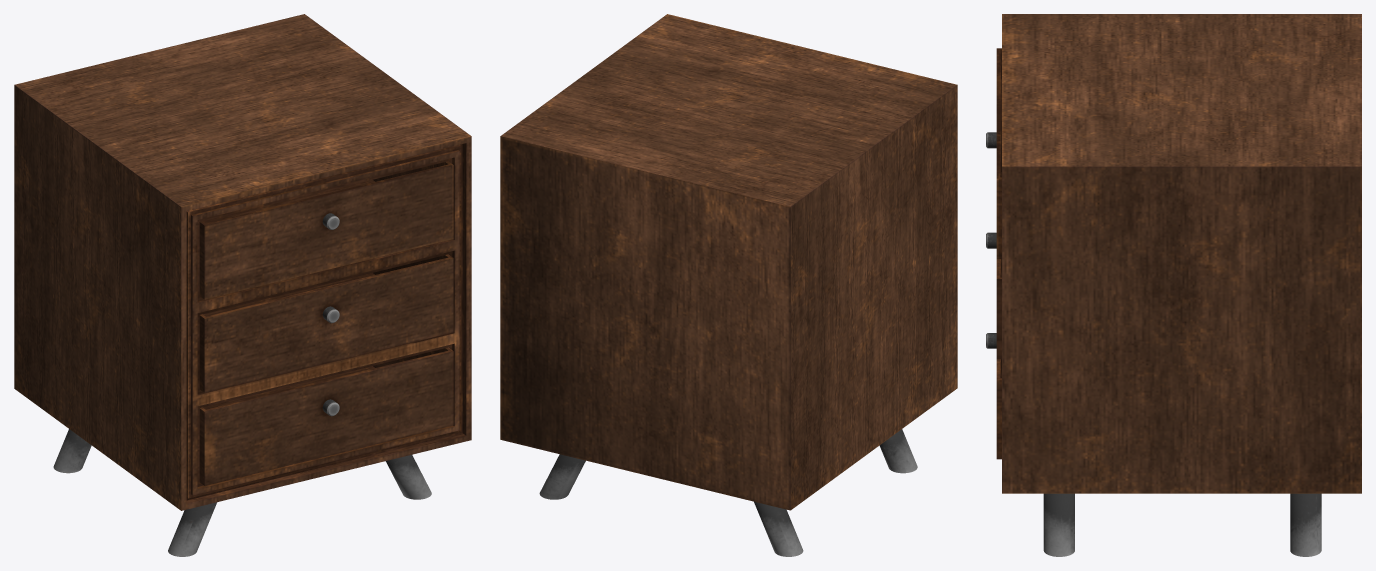
File: Drawer.fbx
3 renders of one model, left to right at view 1: azimuth 30°, elevation 25°; view 2: azimuth 150°, elevation 25°; view 3: azimuth 270°, elevation 25°, orthographic. The views are drawn at different scales.
Parts seen in each view (by area): view 1: Drawers, Drawers.001, Drawers.002, Drawers.003; view 2: Drawers; view 3: Drawers, Drawers.003, Drawers.002, Drawers.001.
Part boxes in pixels (x1,y1,x2,y2): Drawers: (14,14,471,556); Drawers.001: (199,347,453,485); Drawers.002: (199,254,453,392); Drawers.003: (199,161,453,299); Drawers: (500,14,957,556); Drawers: (1002,14,1361,556); Drawers.003: (986,48,1001,258); Drawers.002: (986,232,1001,359); Drawers.001: (986,333,1001,459).
Bounding box in the file's own units: 74.2 × 90.34 × 77.24.
